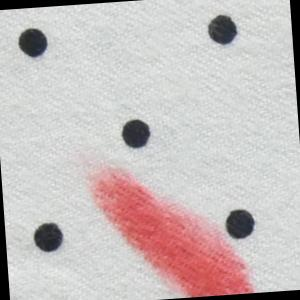Stain: (82, 150, 260, 300)
